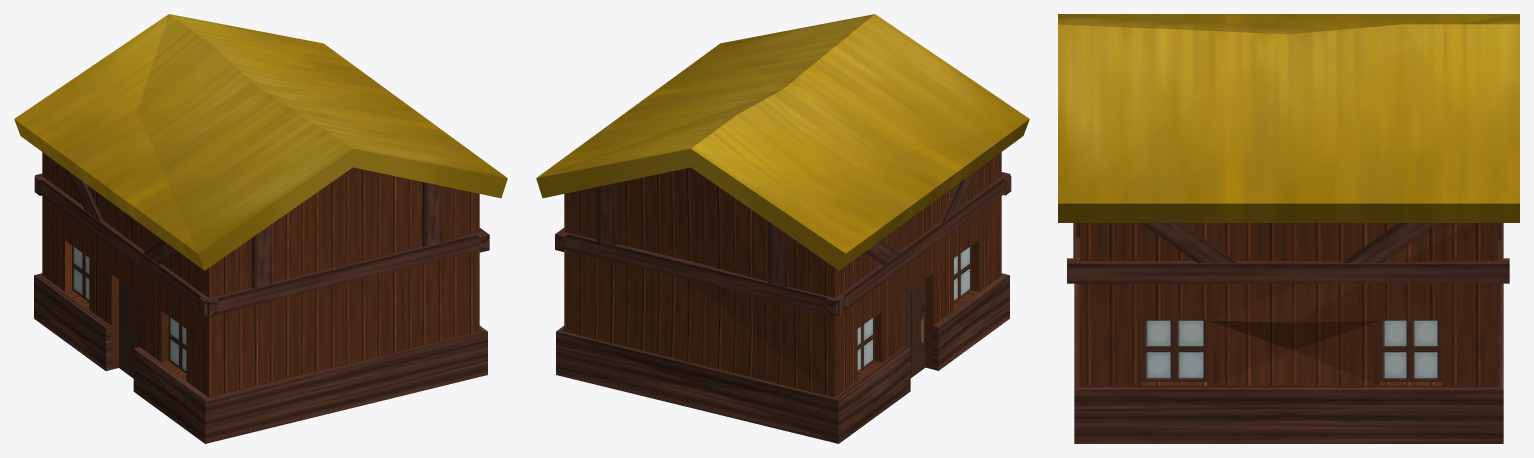
The model's file is co_Building05.fbx.
3 renders of one model, left to right at view 1: azimuth 30°, elevation 25°; view 2: azimuth 150°, elevation 25°; view 3: azimuth 270°, elevation 25°, orthographic. The views are drawn at different scales.
Visible parts, largest first — view 1: Building05; view 2: Building05; view 3: Building05.
Part boxes in pixels (x1,y1,x2,y2): Building05: (14,14,507,443); Building05: (536,14,1029,443); Building05: (1058,14,1519,443).
Bounding box in the file's own units: 2886 × 2366 × 2973.
